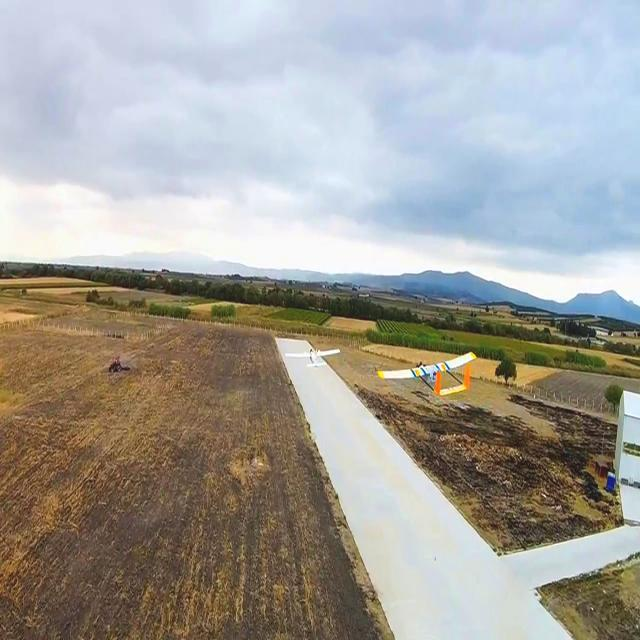iha: (410, 344, 444, 404), (283, 346, 341, 370)
